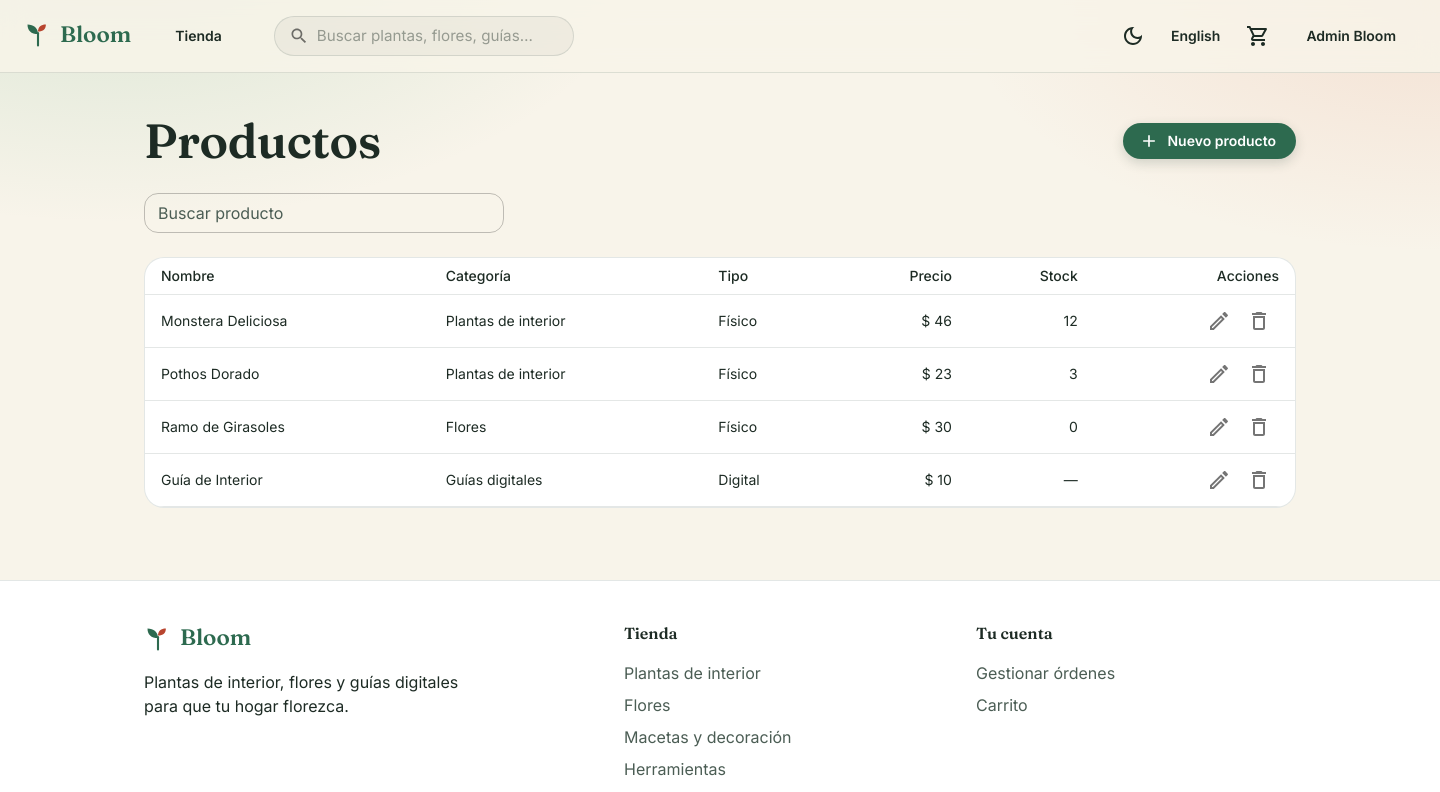
Test: AdminProductsPage › should_switch_the_form_fields_for_digital_products
The image size is (1440, 792).
Click the button "Nuevo producto" at (1210,141), box x1=1124 y1=123 x2=1296 y2=159
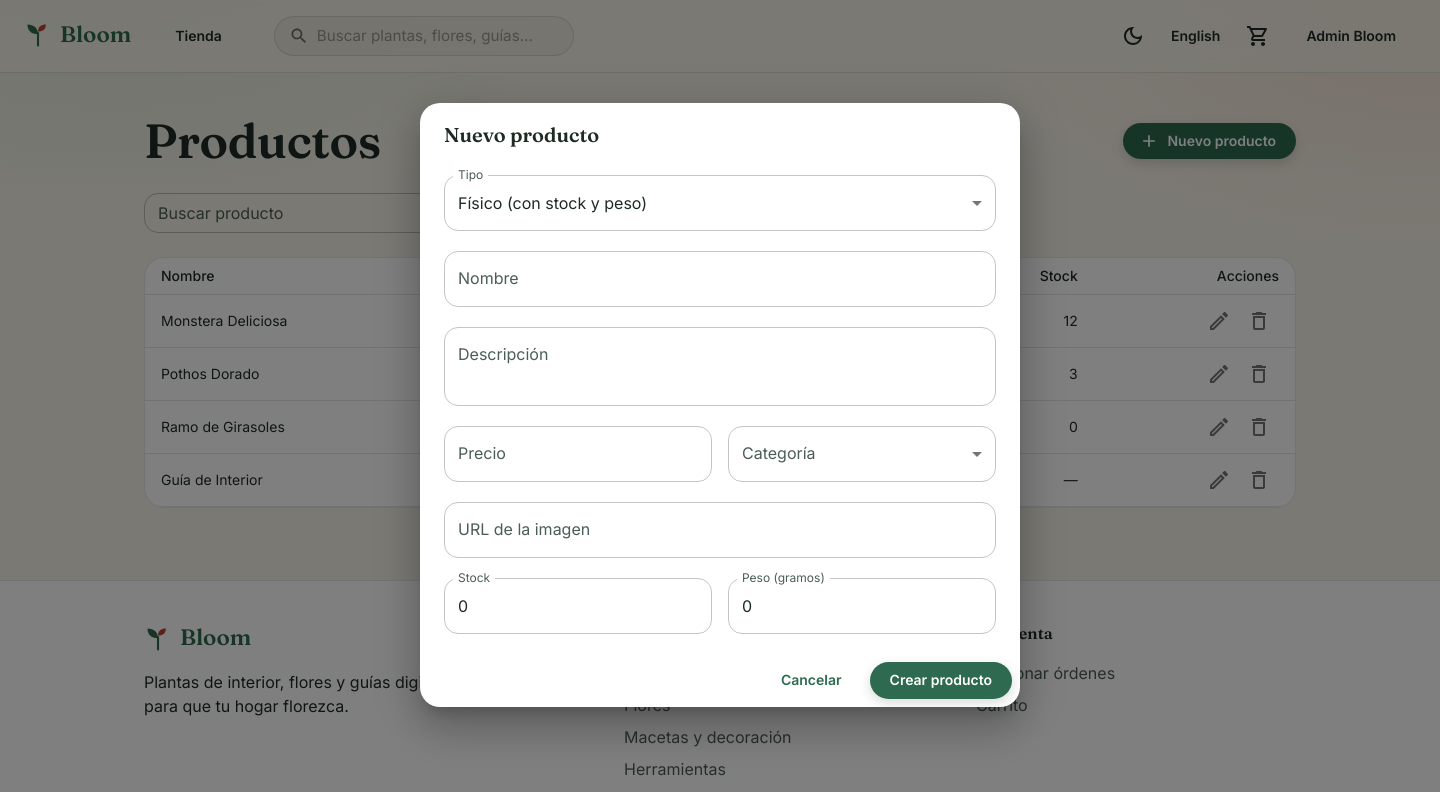
Click the dropdown named "Tipo" at (553,203), box x1=458 y1=193 x2=647 y2=213
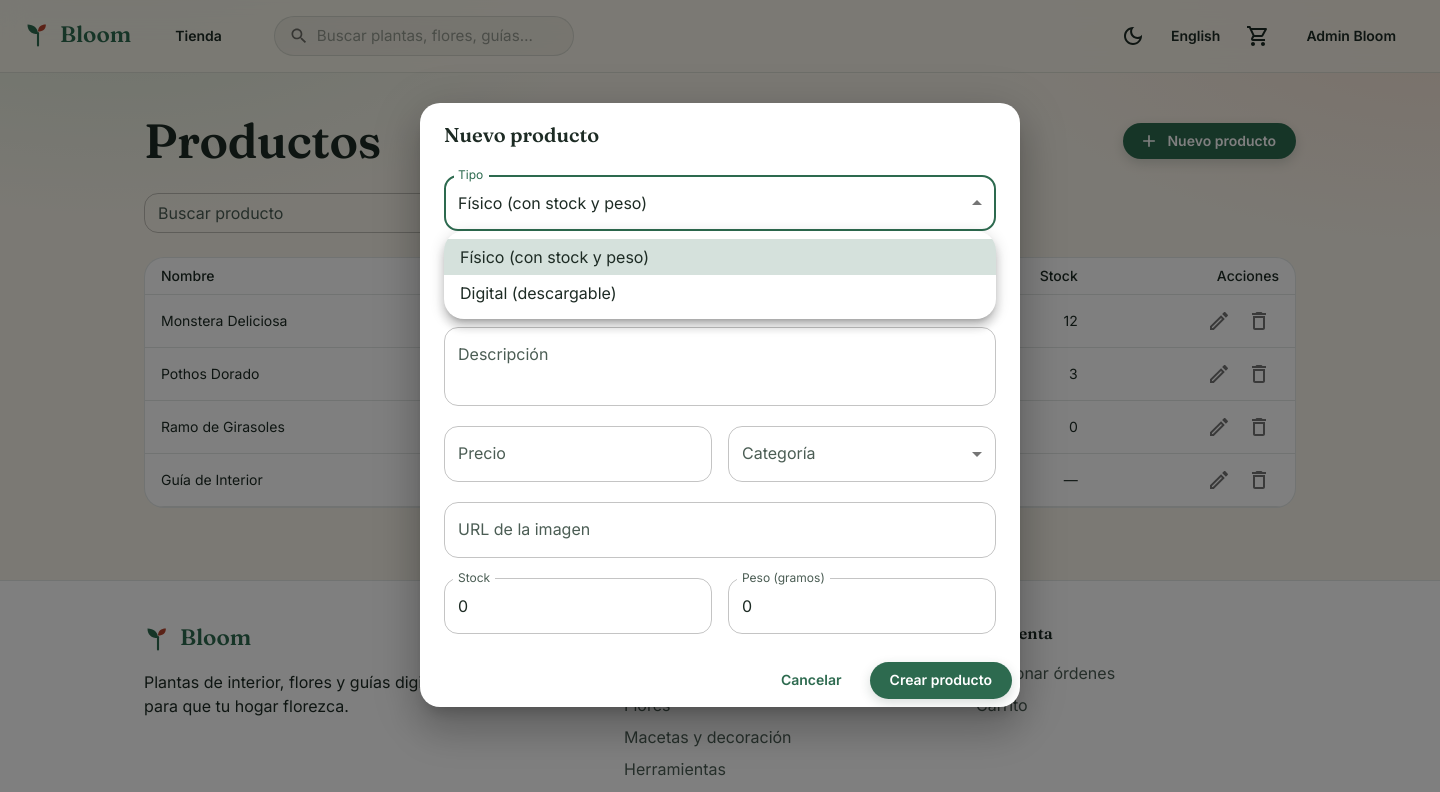
Click the option "Digital (descargable)" at (538,293), box x1=460 y1=283 x2=616 y2=303
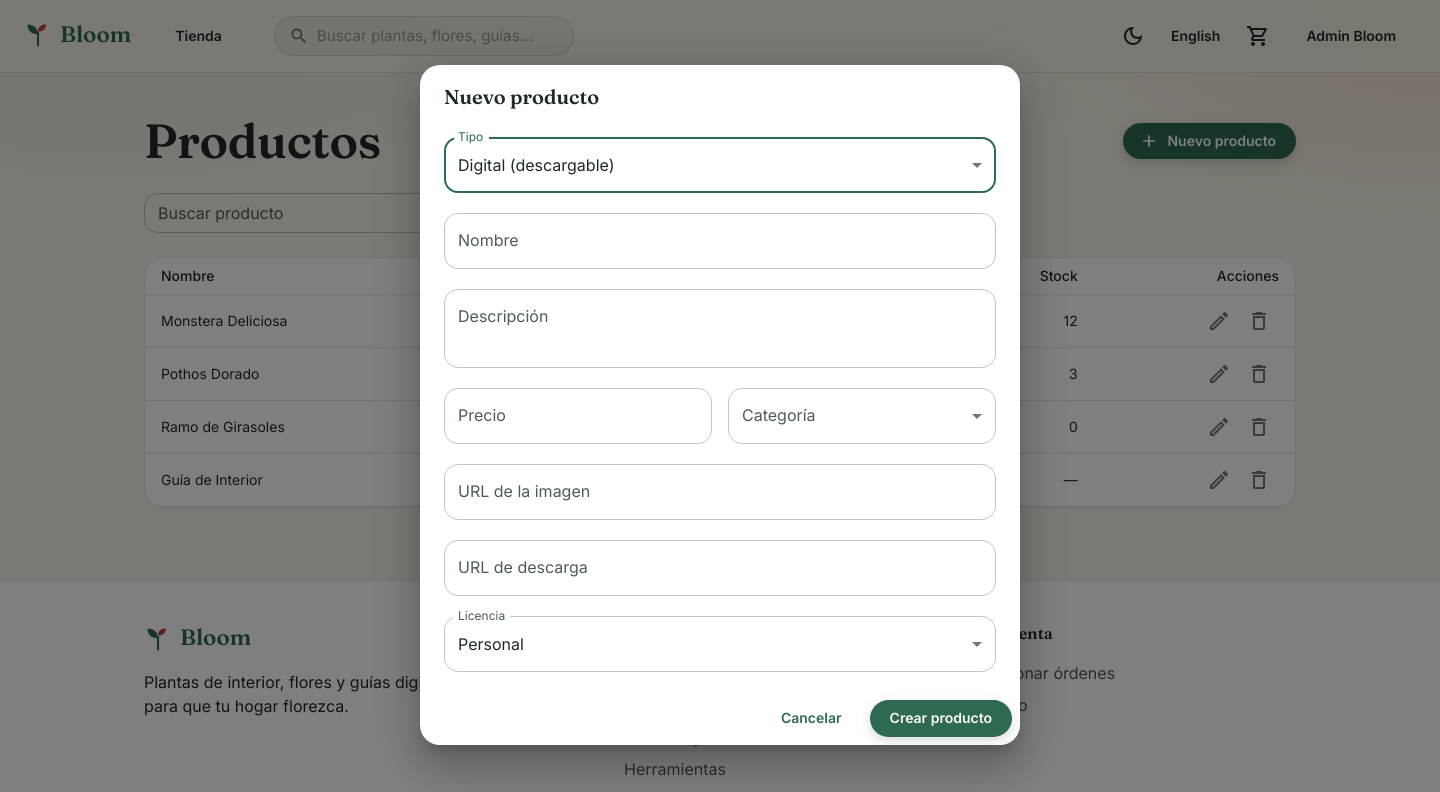
Now the field labelled "URL de descarga" is shown, box x1=444 y1=540 x2=996 y2=596
Click the button "Crear producto" at (941,719), box x1=870 y1=700 x2=1012 y2=737
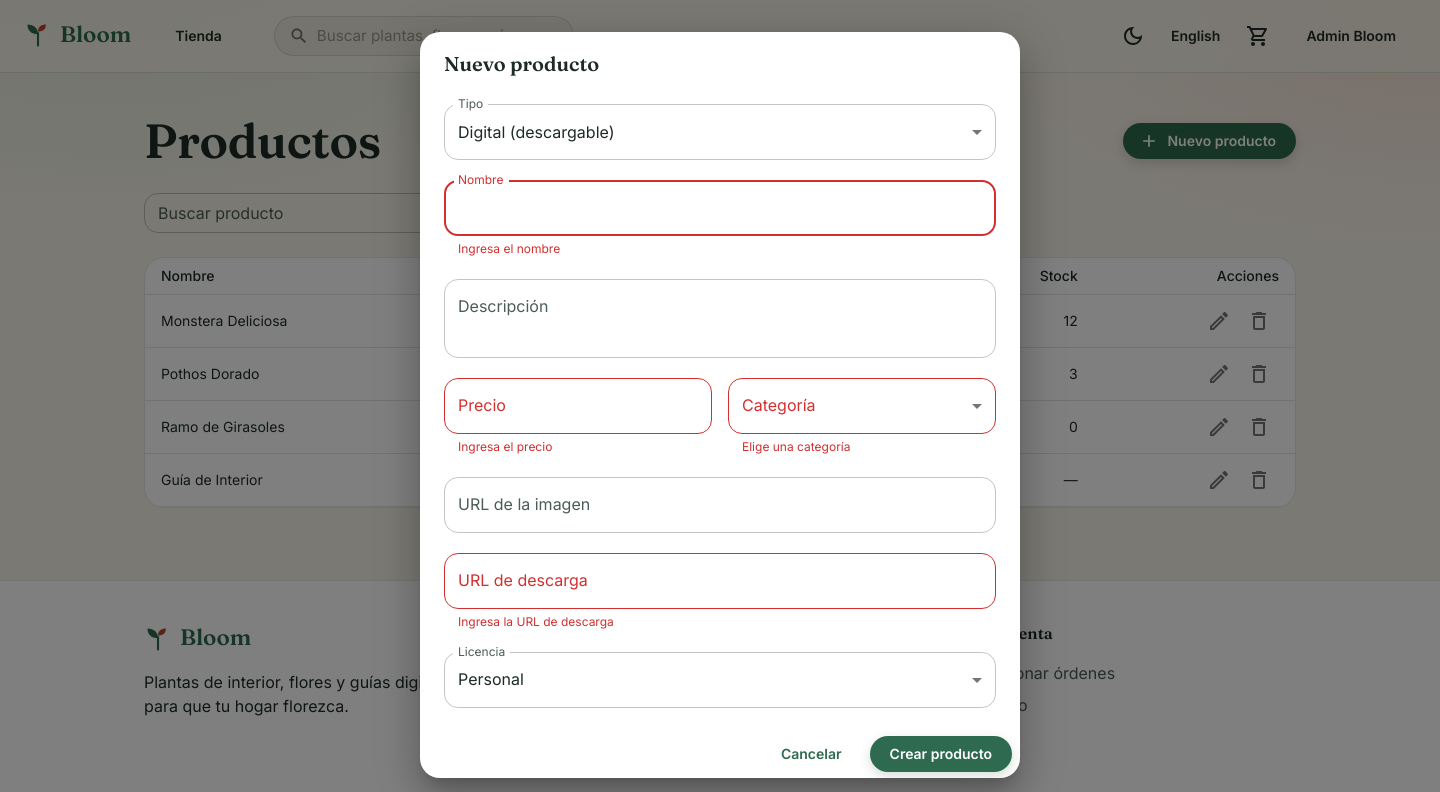
Now the text "Ingresa la URL de descarga" is shown, box x1=458 y1=614 x2=614 y2=629
